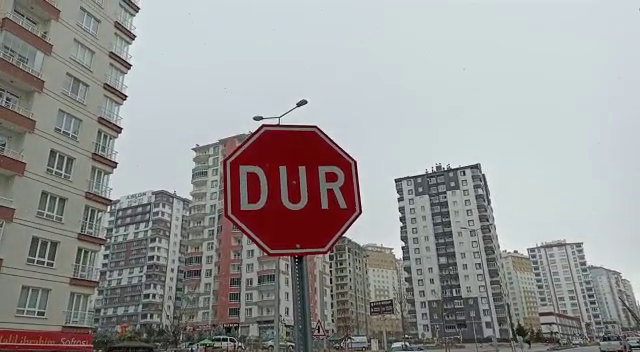stop: (219, 120, 365, 260)
